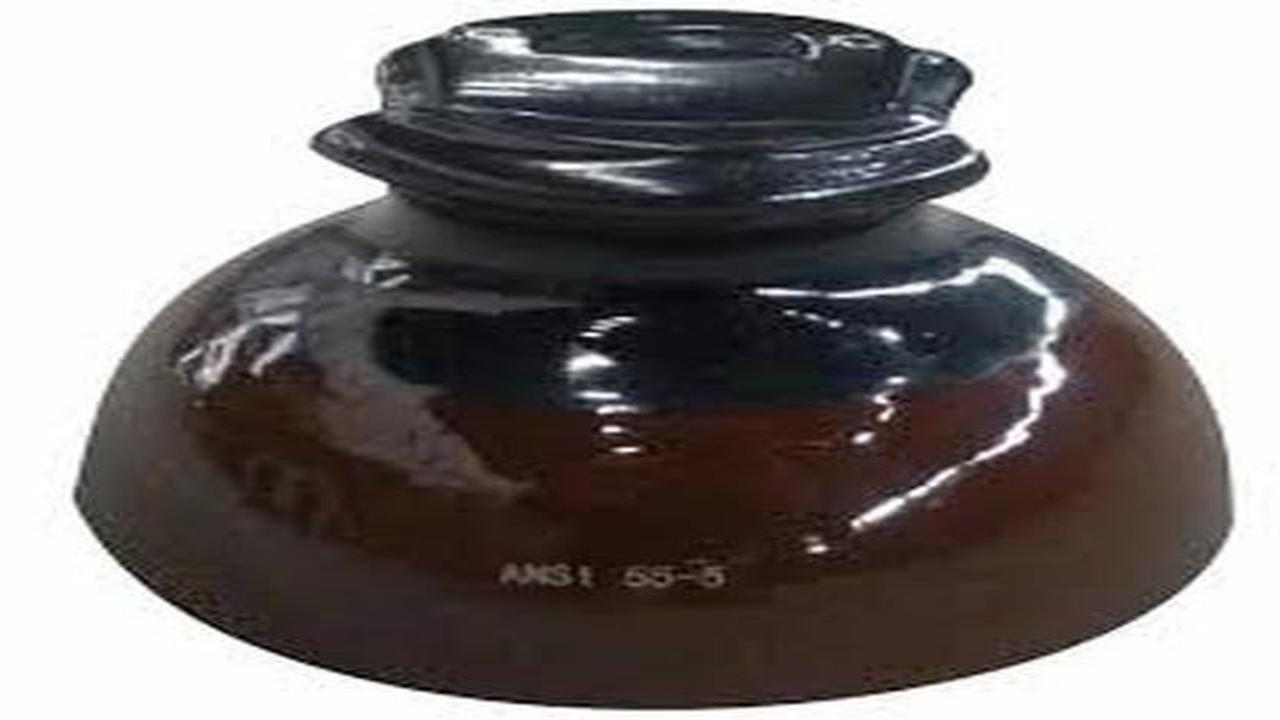insulator_pin: (81, 4, 1241, 708)
